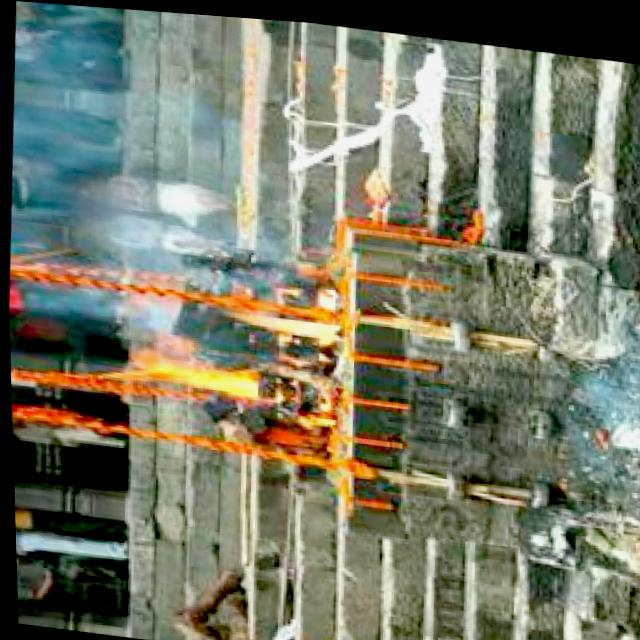helmet: (103, 259, 352, 419)
